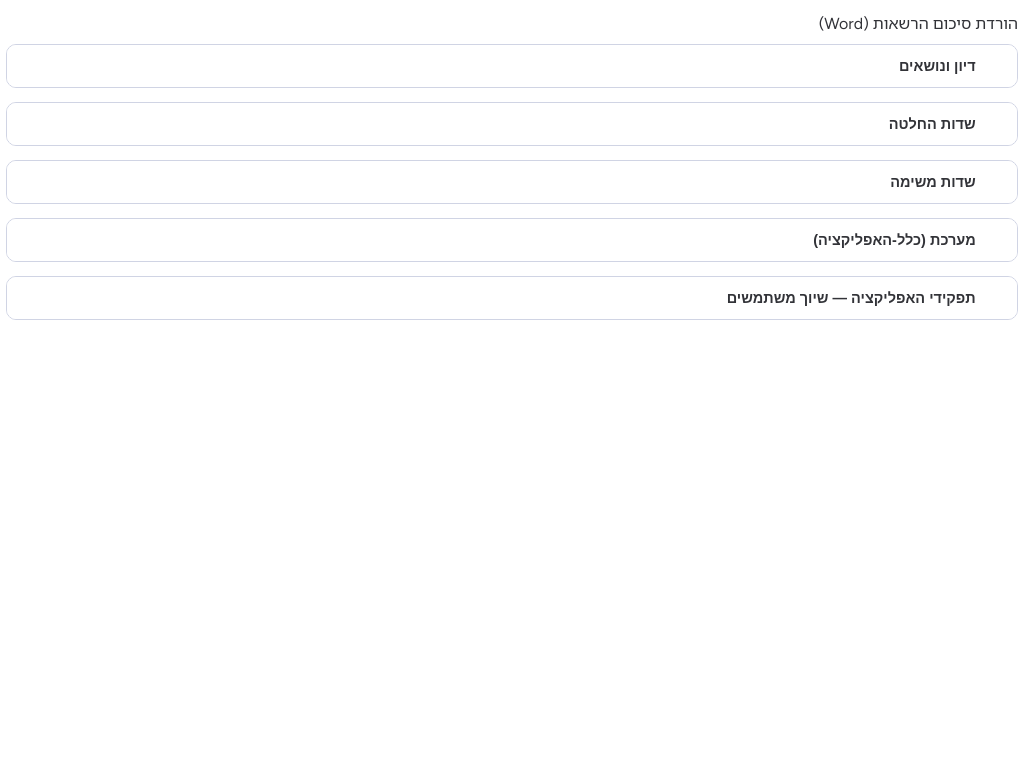
Scenario: round333 — matrix reading order + dropped chrome › keeps the system body cells aligned with the reordered header (Owners locked-✓ first)
Click the button "מערכת (כלל-האפליקציה)" at (894, 240), box [7,219,1017,261]
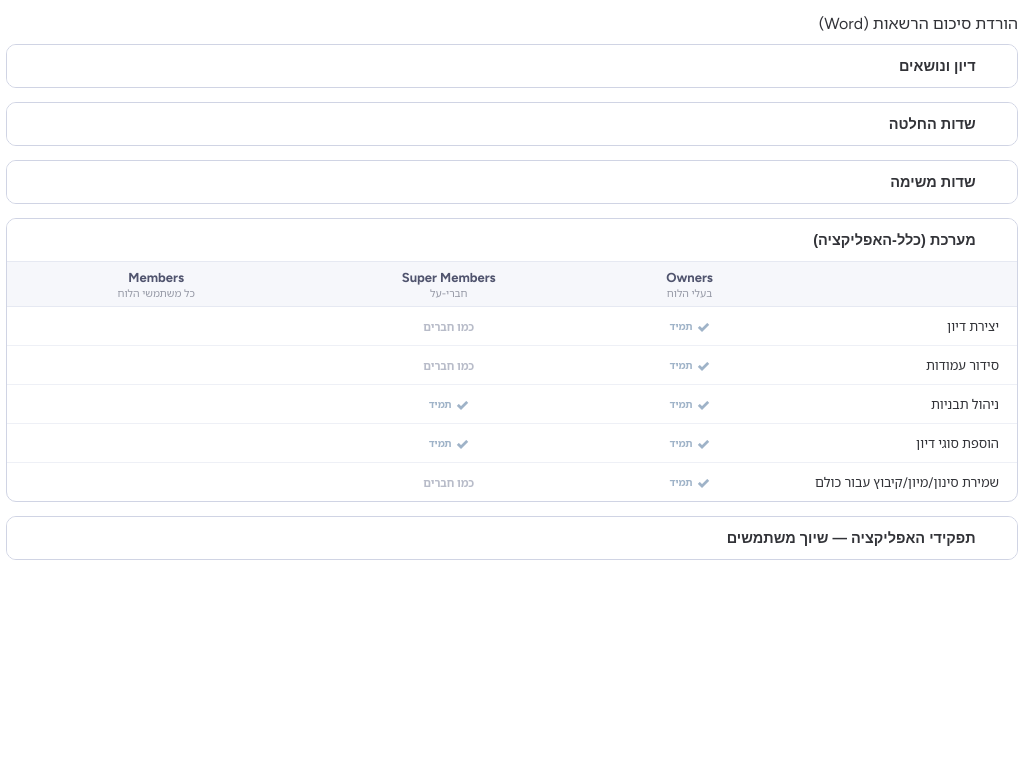
Check: the cell "✓ תמיד" in the row of "יצירת דיון" is shown, box [670,320,692,333]
